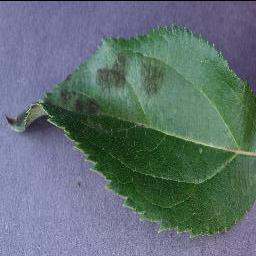apple healthy: (5, 23, 255, 238)
